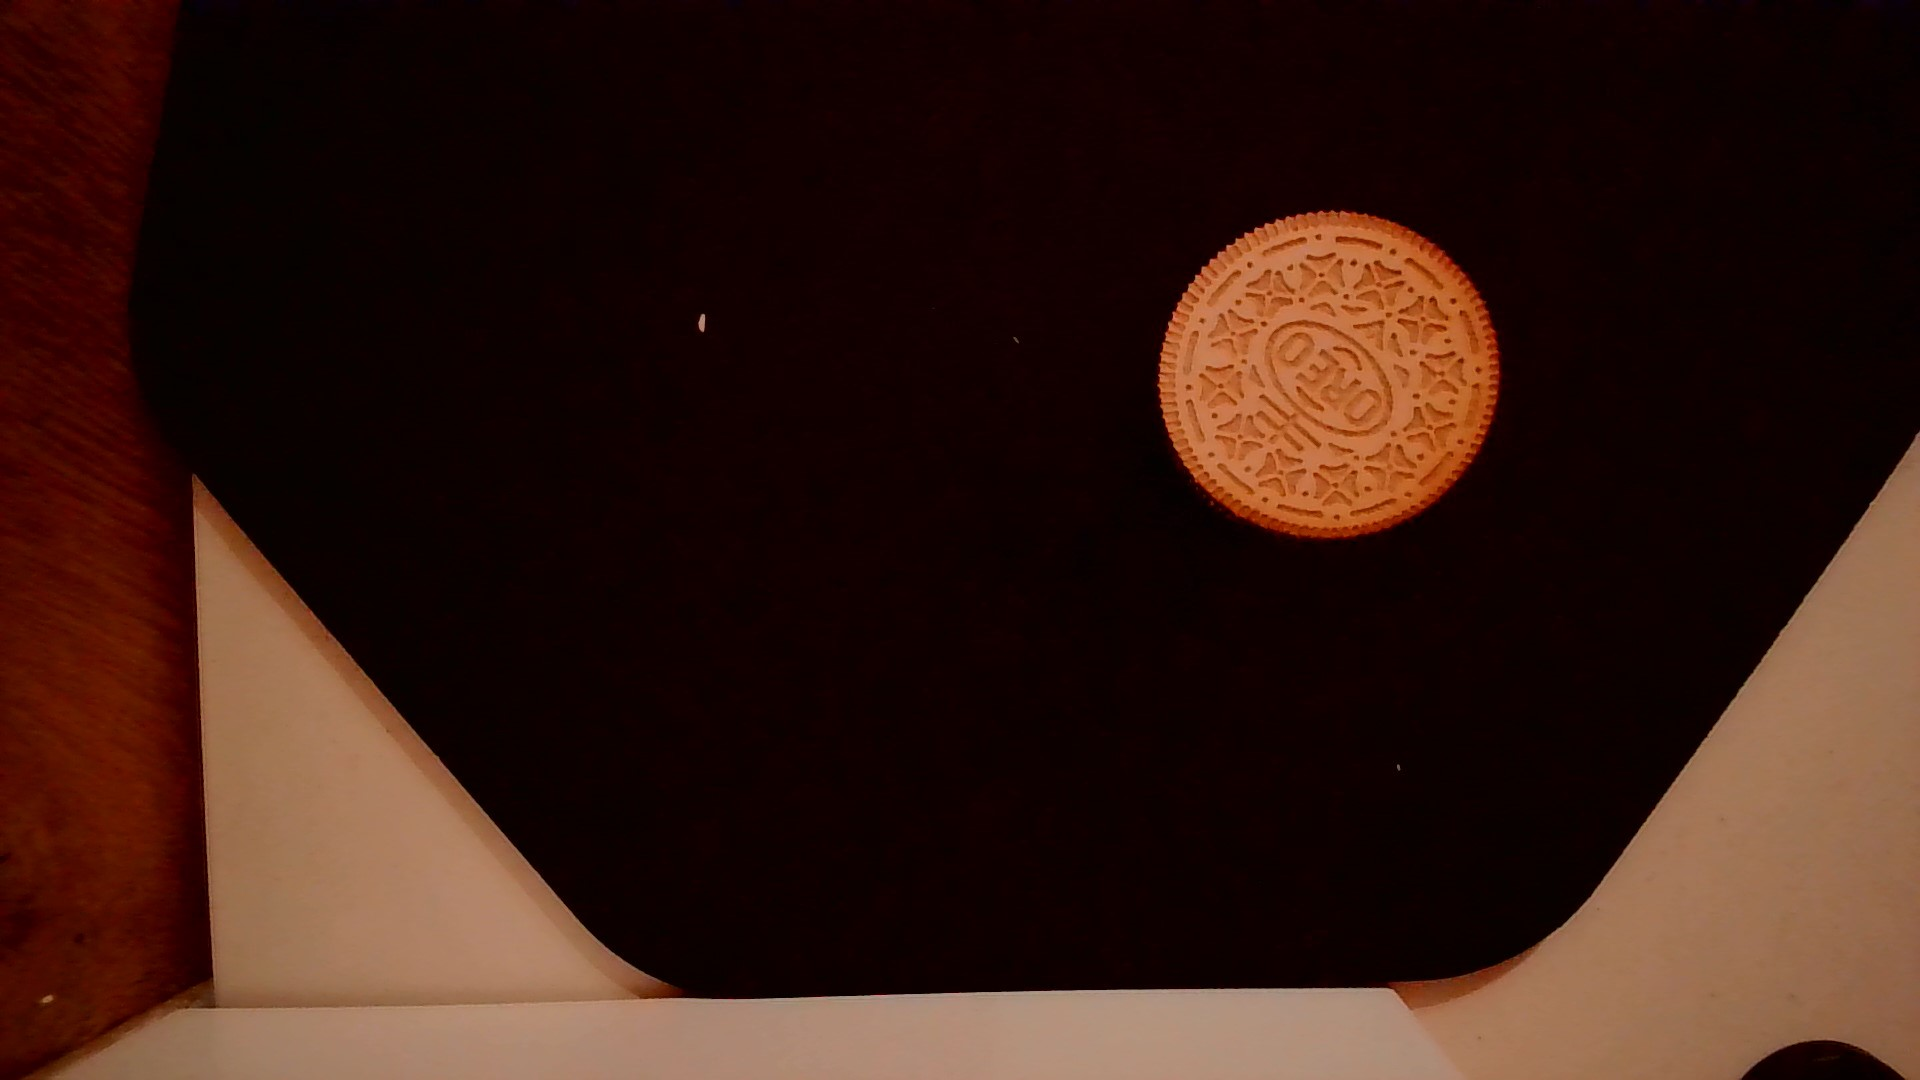Oréo: (1149, 202, 1509, 550)
